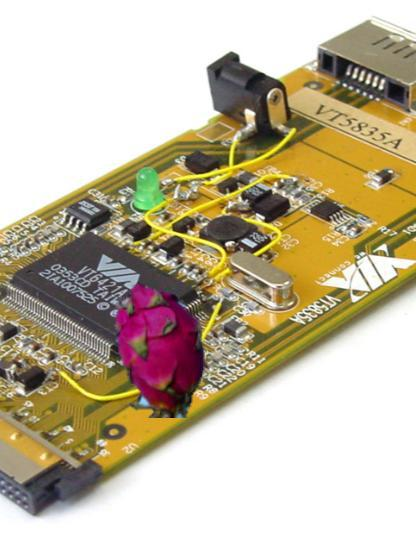Pitahaya: (92, 282, 228, 418)
